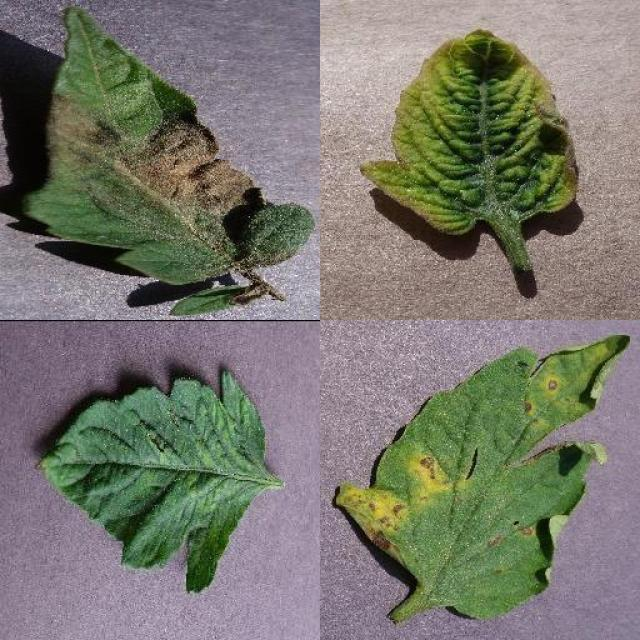Late Blight: (26, 5, 316, 287)
Septoria: (337, 332, 632, 620)
